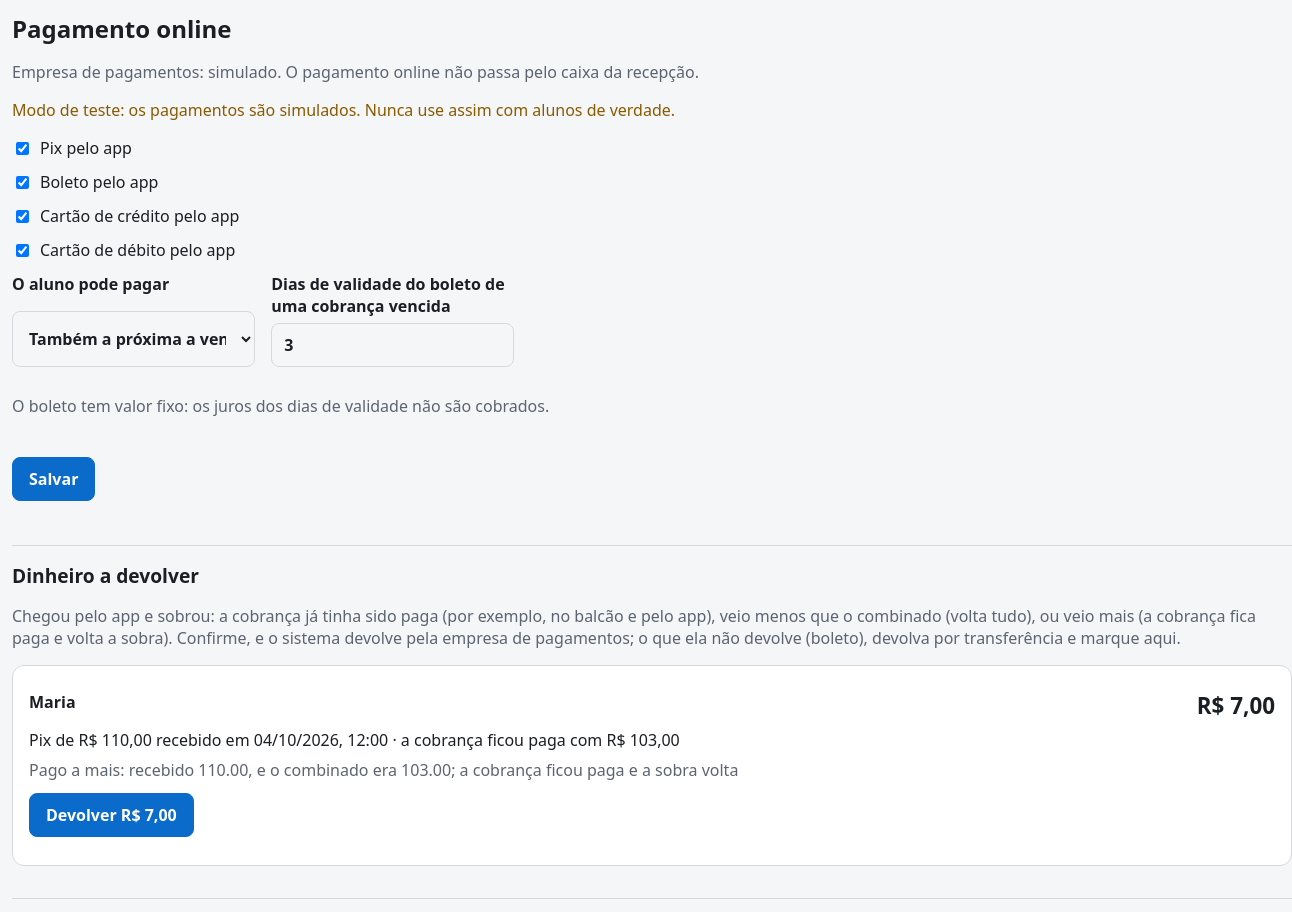
pagamento online (ADMIN) › a empresa recusou: mostra o erro, deixa tentar de novo ou devolver por fora
What coordinates should you click on to do the following:
click the button "Devolver R$ 7,00"
I would click on:
 (111, 815)
Its box is x1=29 y1=793 x2=194 y2=837.
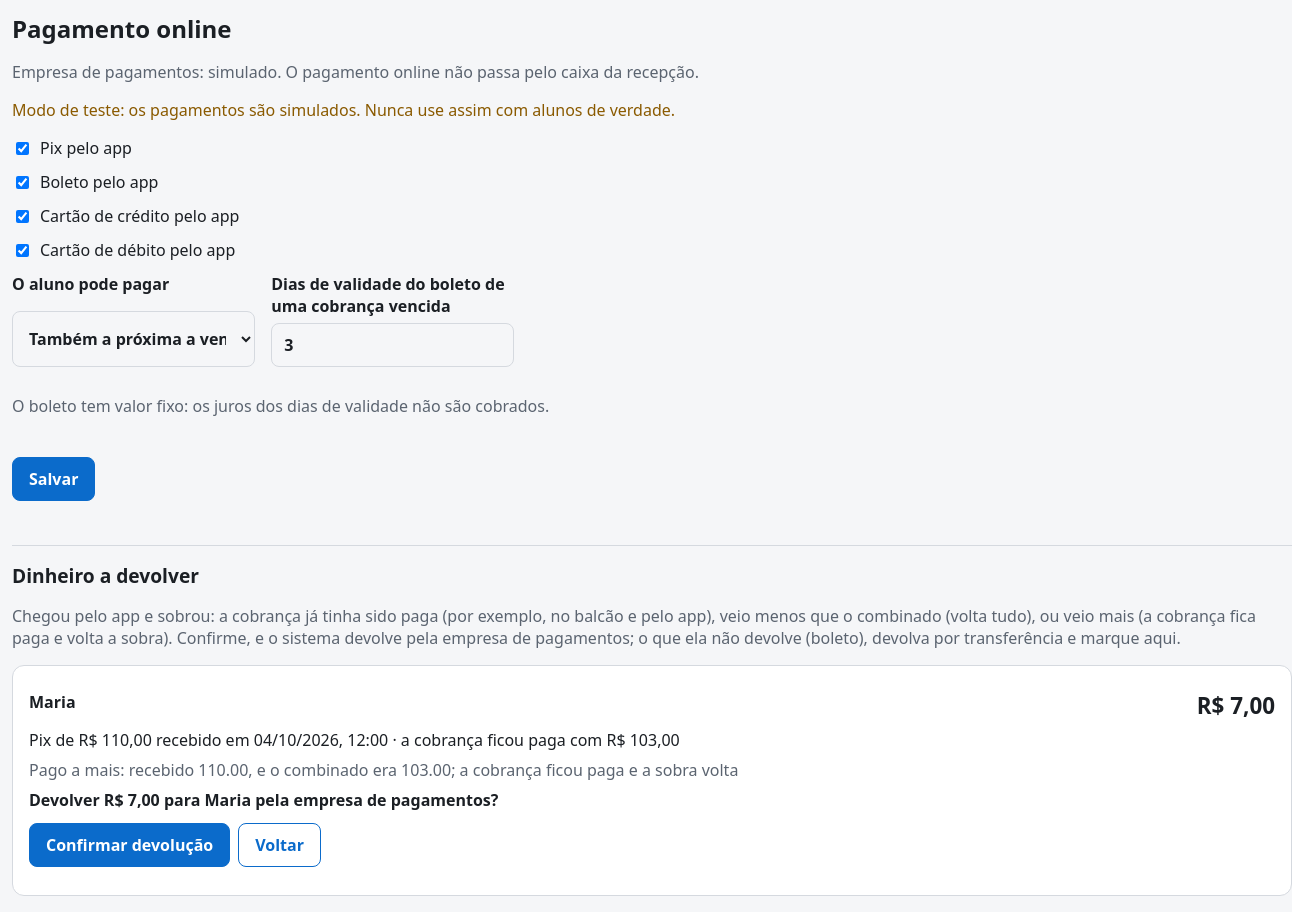
What coordinates should you click on to do the following:
click the button "Confirmar devolução"
I would click on:
 (130, 845)
Its box is x1=29 y1=823 x2=230 y2=867.
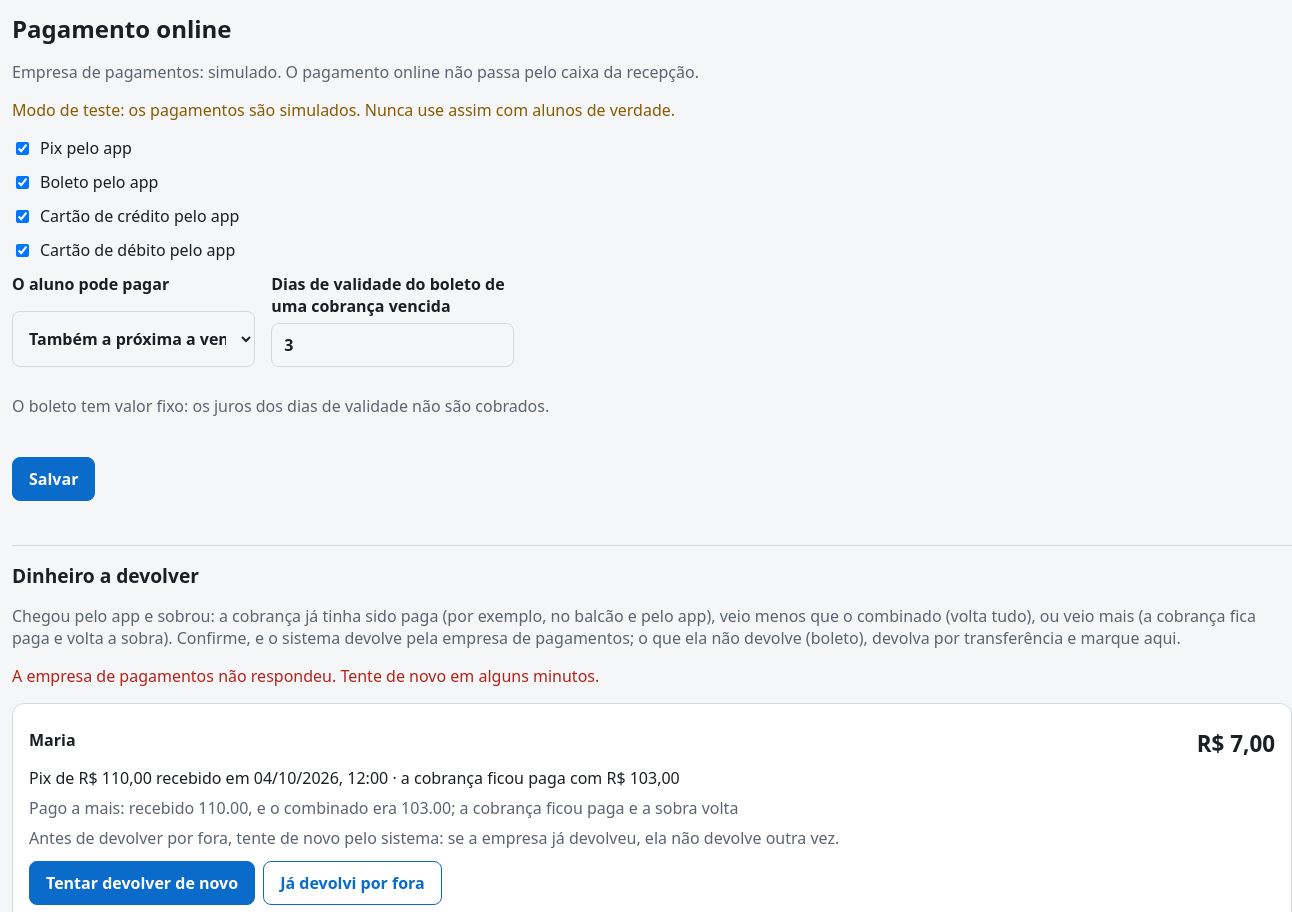
Check: the text "não respondeu" is shown, box x1=12 y1=665 x2=599 y2=687
Check: the button "Tentar devolver de novo" is shown, box x1=29 y1=861 x2=255 y2=905
Check: the button "Já devolvi por fora" is shown, box x1=263 y1=861 x2=442 y2=905
